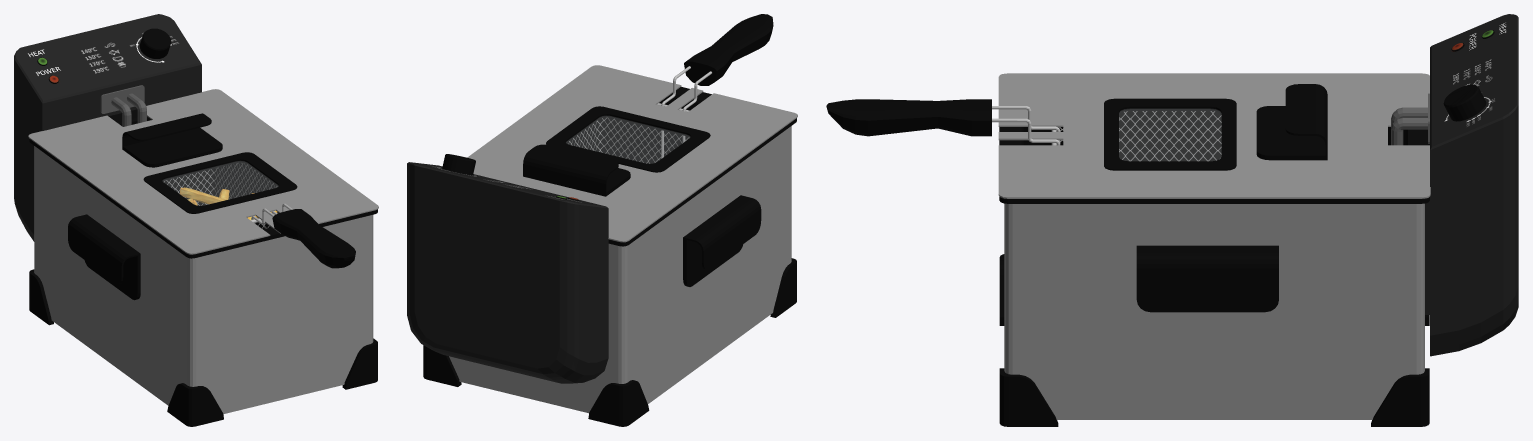
File: deepFryerWithFrenchFries.obj
3 views of the same model, side by side, from view 1: azimuth 30°, elevation 25°; view 2: azimuth 150°, elevation 25°; view 3: azimuth 270°, elevation 25° (orthographic). The views are drawn at different scales.
Visible parts, largest first — view 1: baseMetal_Cube, cover_Cube.006, mechanism_Cube.002, supports_Cube.004, coverHandle_Cube.007, handles_Cube.003, glass_Cube.010, topWindow_Cube.005, net_basquet.001, Circle_Circle.003, ceramic_Cube.001, resistance (+2 smaller); view 2: mechanism_Cube.002, baseMetal_Cube, cover_Cube.006, handles_Cube.003, supports_Cube.004, coverHandle_Cube.007, glass_Cube.010, net_basquet.001, topWindow_Cube.005, Circle_Circle.003, ceramic_Cube.001, selector_Circle.002 (+1 smaller); view 3: baseMetal_Cube, cover_Cube.006, mechanism_Cube.002, handles_Cube.003, supports_Cube.004, Circle_Circle.003, glass_Cube.010, net_basquet.001, coverHandle_Cube.007, topWindow_Cube.005, ceramic_Cube.001, selector_Circle.002 (+2 smaller).
Part boxes in pixels (left/top/right/bottom): baseMetal_Cube: left=34, top=146, right=373, bottom=414; cover_Cube.006: left=28, top=89, right=378, bottom=254; mechanism_Cube.002: left=14, top=14, right=201, bottom=241; supports_Cube.004: left=29, top=269, right=377, bottom=426; coverHandle_Cube.007: left=122, top=113, right=222, bottom=167; handles_Cube.003: left=68, top=214, right=140, bottom=300; glass_Cube.010: left=163, top=161, right=277, bottom=205; topWindow_Cube.005: left=143, top=152, right=297, bottom=213; net_basquet.001: left=163, top=162, right=278, bottom=229; Circle_Circle.003: left=272, top=209, right=355, bottom=268; ceramic_Cube.001: left=29, top=109, right=377, bottom=258; resistance: left=100, top=85, right=146, bottom=126; mechanism_Cube.002: left=407, top=162, right=608, bottom=383; baseMetal_Cube: left=449, top=126, right=791, bottom=413; cover_Cube.006: left=467, top=65, right=797, bottom=242; handles_Cube.003: left=683, top=195, right=761, bottom=286; supports_Cube.004: left=423, top=258, right=796, bottom=426; coverHandle_Cube.007: left=523, top=144, right=630, bottom=196; glass_Cube.010: left=566, top=116, right=689, bottom=163; net_basquet.001: left=566, top=117, right=689, bottom=163; topWindow_Cube.005: left=546, top=106, right=710, bottom=172; Circle_Circle.003: left=684, top=14, right=773, bottom=85; ceramic_Cube.001: left=608, top=86, right=796, bottom=246; selector_Circle.002: left=442, top=154, right=475, bottom=175; baseMetal_Cube: left=1004, top=203, right=1424, bottom=419; cover_Cube.006: left=998, top=73, right=1430, bottom=198; mechanism_Cube.002: left=1425, top=14, right=1518, bottom=356; handles_Cube.003: left=1136, top=245, right=1278, bottom=312; supports_Cube.004: left=999, top=254, right=1429, bottom=426; Circle_Circle.003: left=826, top=99, right=991, bottom=136; glass_Cube.010: left=1119, top=109, right=1221, bottom=160; net_basquet.001: left=1056, top=111, right=1221, bottom=161; coverHandle_Cube.007: left=1256, top=84, right=1327, bottom=160; topWindow_Cube.005: left=1104, top=98, right=1236, bottom=170; ceramic_Cube.001: left=999, top=127, right=1429, bottom=203; selector_Circle.002: left=1443, top=84, right=1486, bottom=121.
Bounding box in the file's own units: 27.93 × 27.82 × 56.81.
